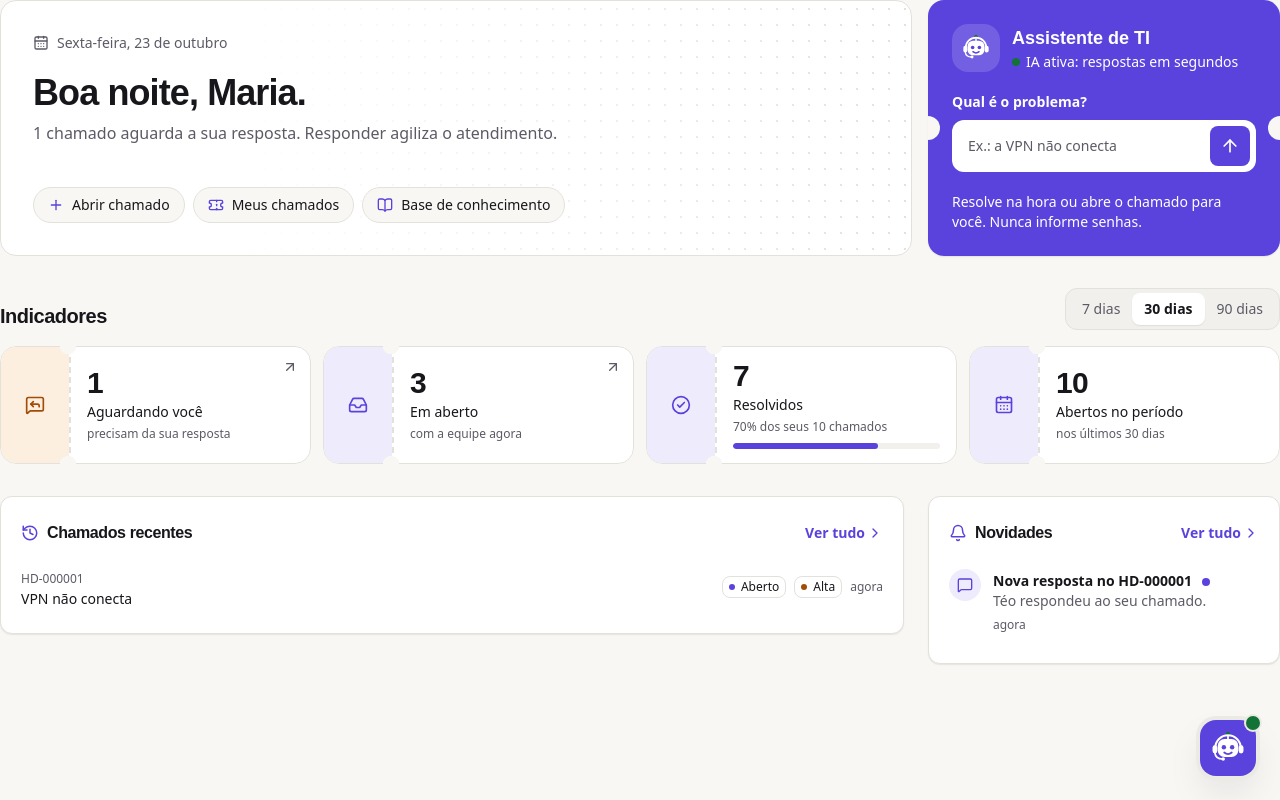
DashboardPage › leva a pergunta digitada no início para o assistente flutuante
This screenshot has width=1280, height=800.
In the field labelled "Qual é o problema?": (1080, 146) x1=958 y1=126 x2=1202 y2=166, type "A impressora não imprime"
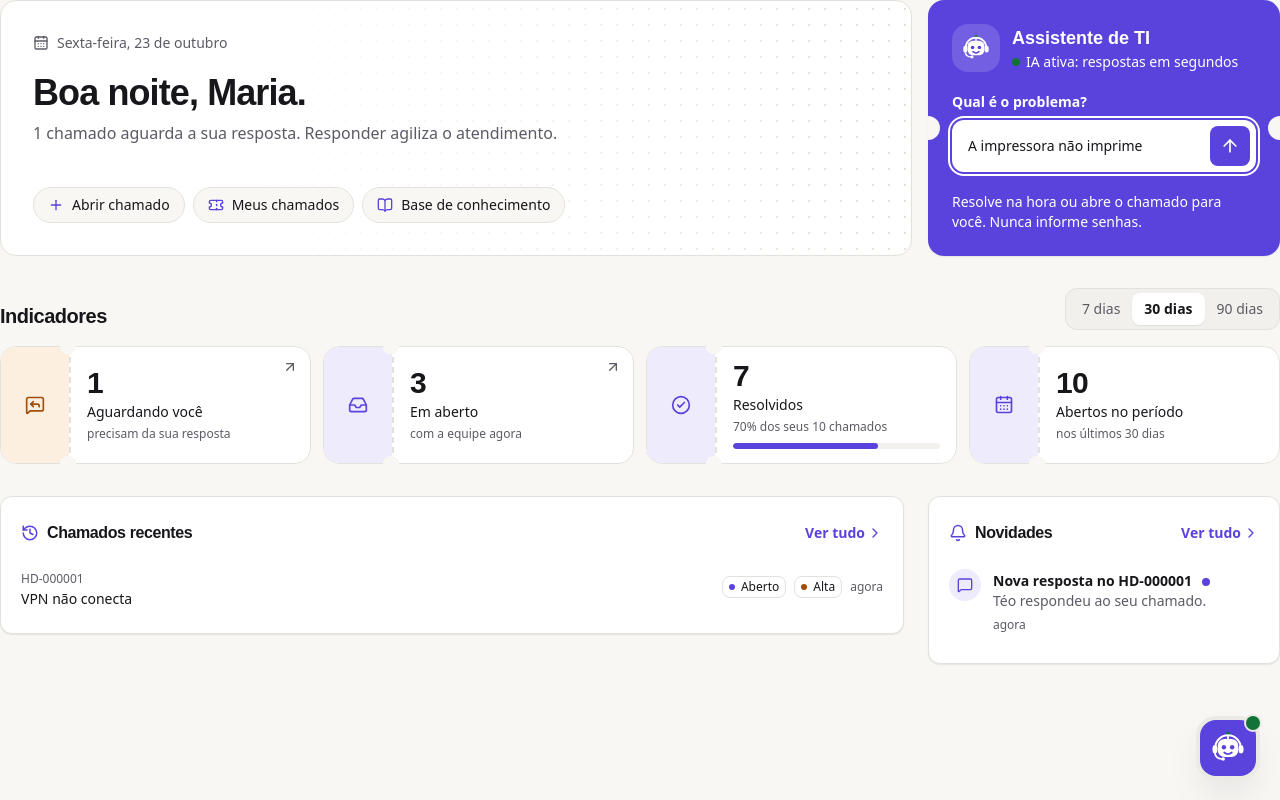
Click the button named "Perguntar ao assistente": (1230, 146) x1=1210 y1=126 x2=1250 y2=166
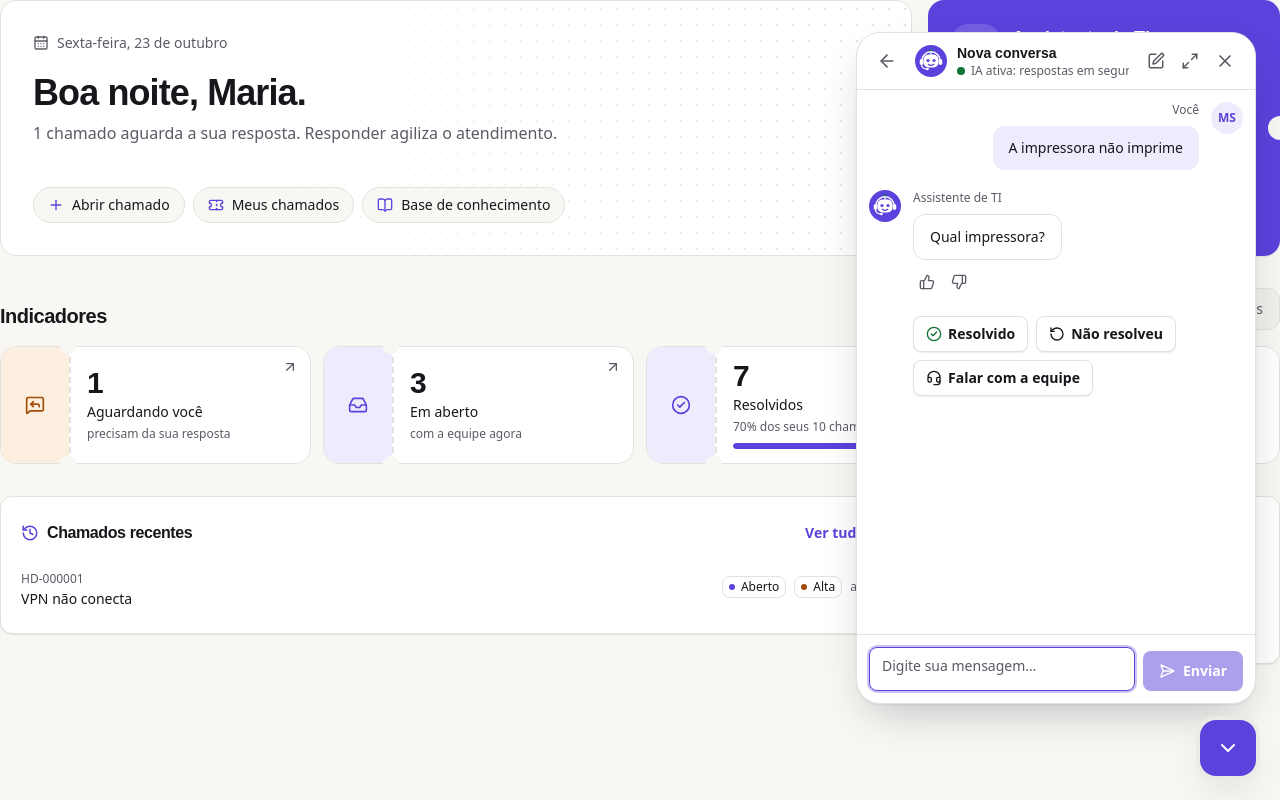
Expected: the text "Qual impressora?" is shown, x1=913 y1=214 x2=1062 y2=260
